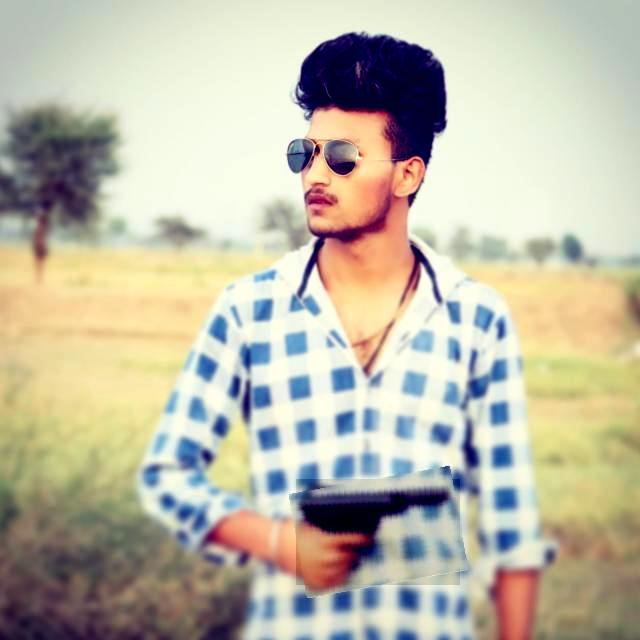pistol: (292, 472, 464, 592)
